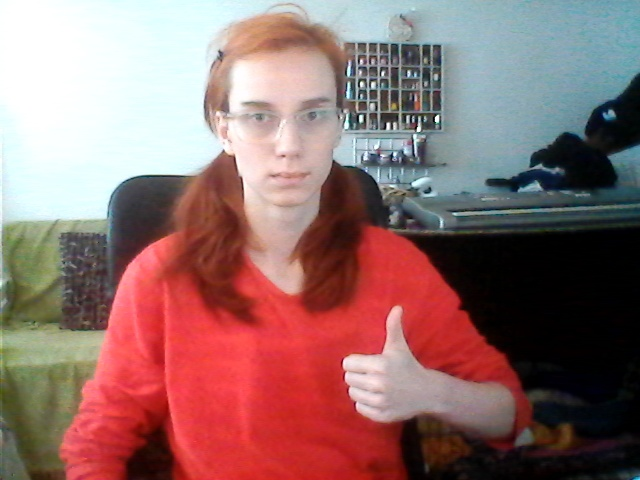jeden: (337, 303, 427, 426)
